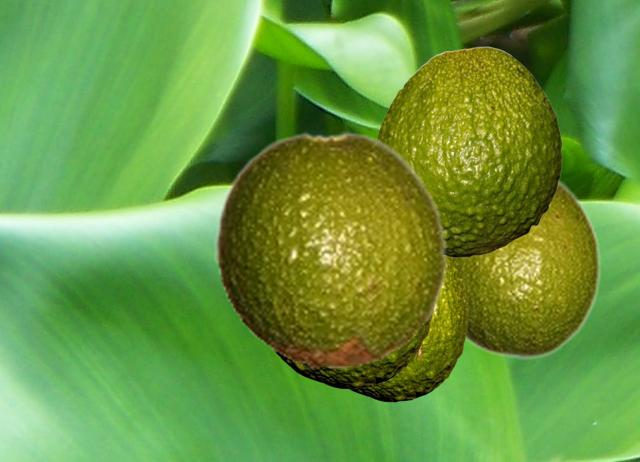avocado: (214, 131, 449, 369), (377, 46, 561, 256), (457, 177, 601, 360), (348, 257, 467, 401), (274, 314, 434, 388)
